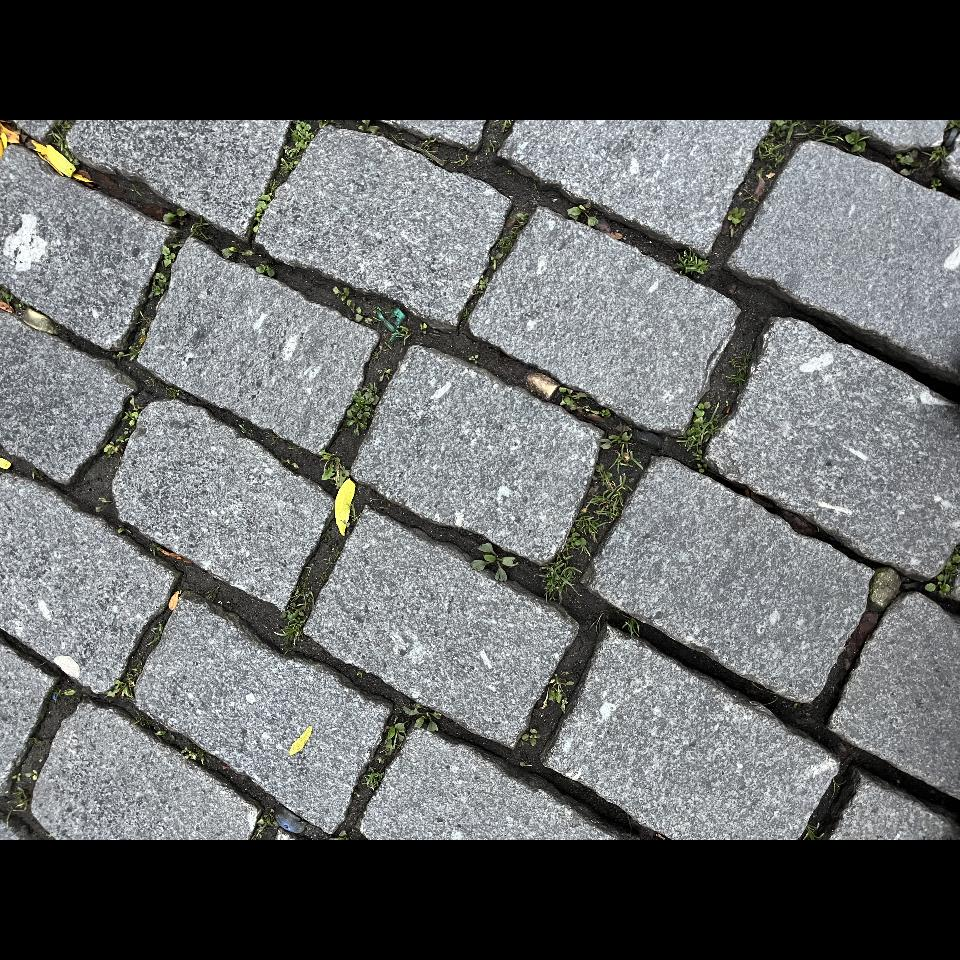weed: (238, 657, 399, 755), (602, 839, 720, 942), (607, 374, 720, 435), (542, 270, 632, 329), (369, 797, 438, 845), (195, 395, 262, 435), (405, 466, 457, 500), (127, 661, 168, 694), (350, 438, 389, 470), (109, 523, 136, 561), (85, 504, 117, 527), (580, 830, 601, 859), (685, 941, 715, 960), (50, 483, 76, 503)
